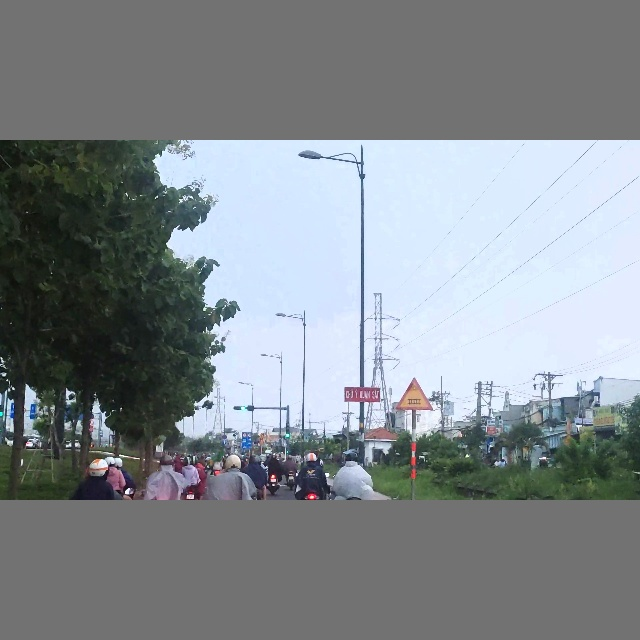I.407a: (222, 440, 227, 445)
W.210: (395, 378, 432, 411)
